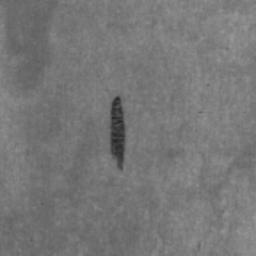Secondary rust skin: (110, 96, 124, 170)
